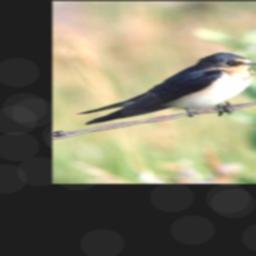Swallow: (77, 50, 256, 128)
